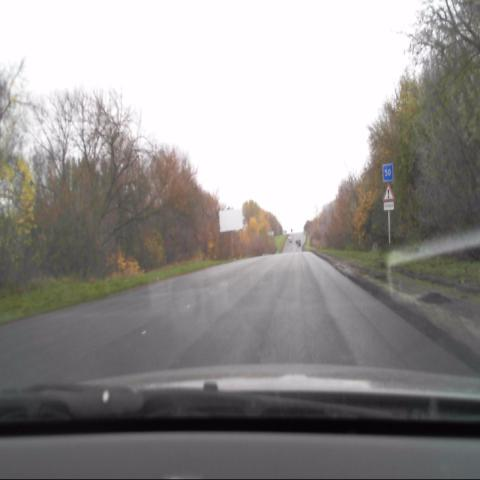1_33: (384, 184, 393, 200)
6_2: (382, 163, 394, 182)
